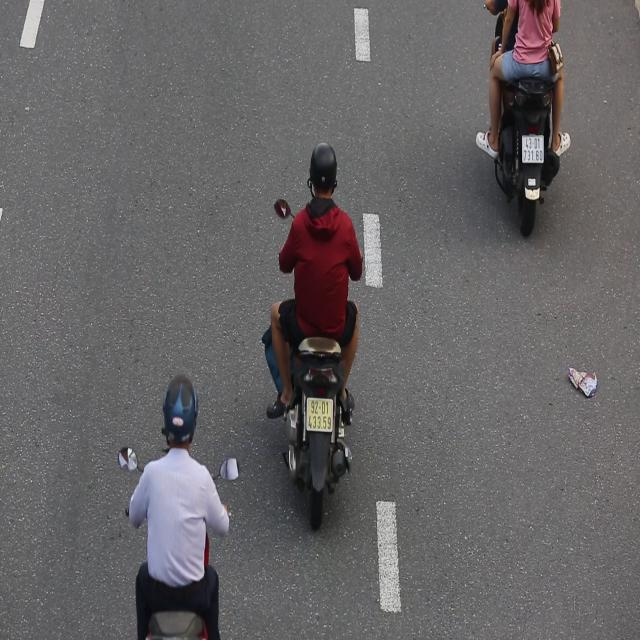motorbike: (266, 133, 366, 534)
